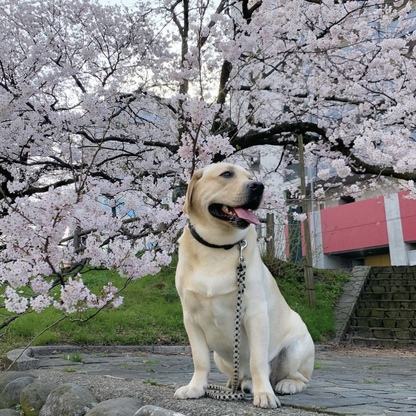labrado: (169, 159, 319, 410)
